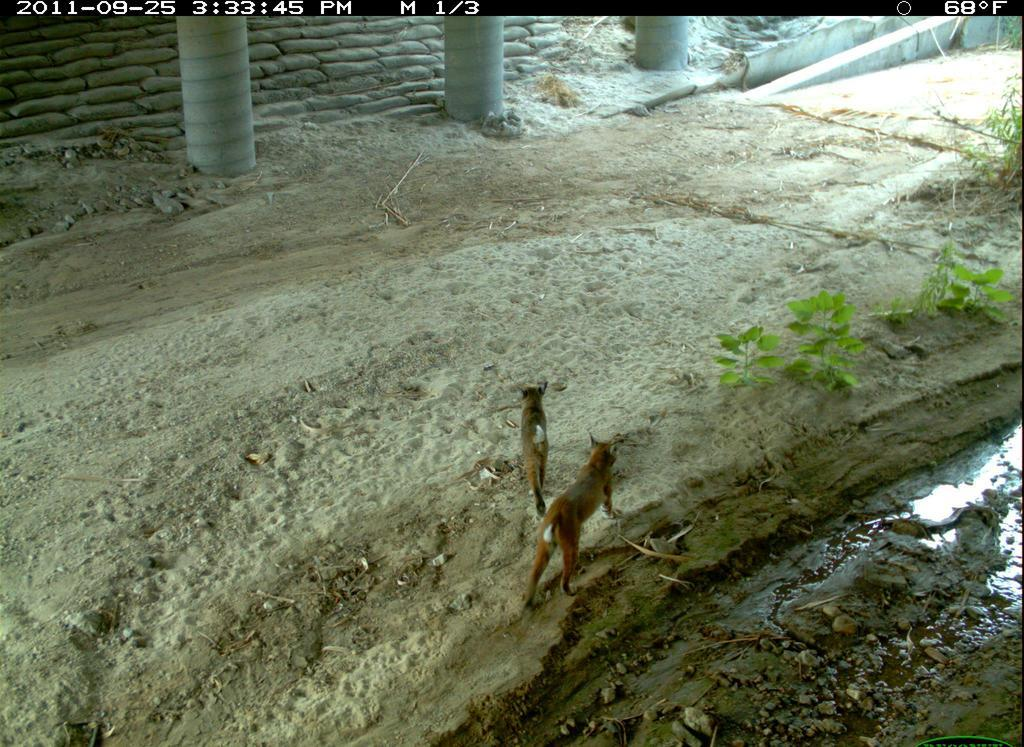bobcat: (521, 427, 655, 624), (501, 372, 560, 523)
